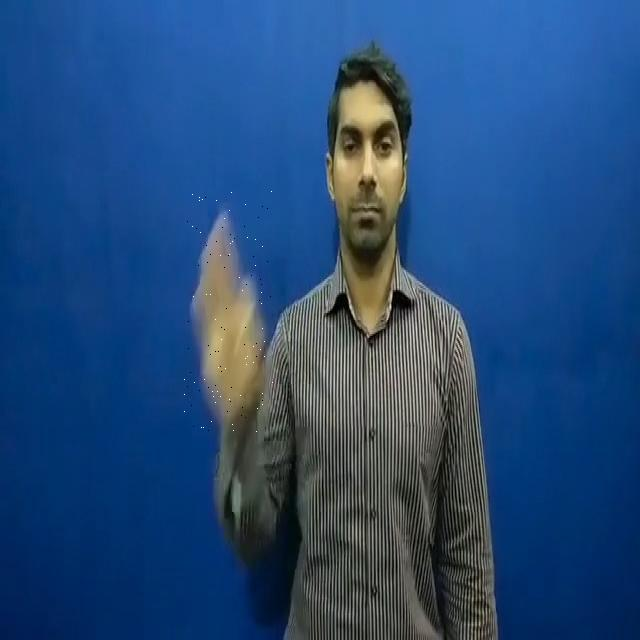eggs: (184, 191, 274, 432)
